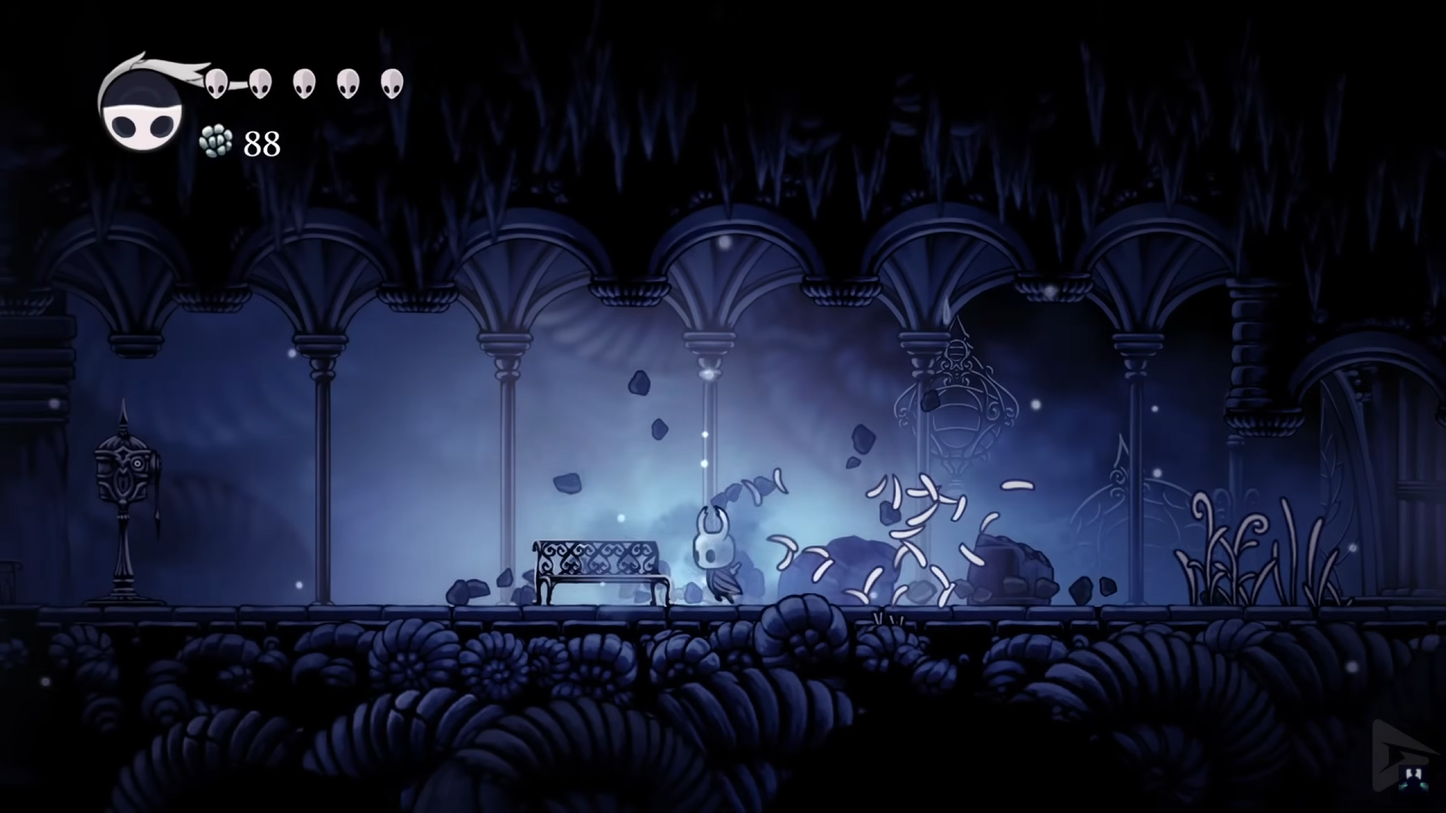HK: (689, 506, 744, 610)
